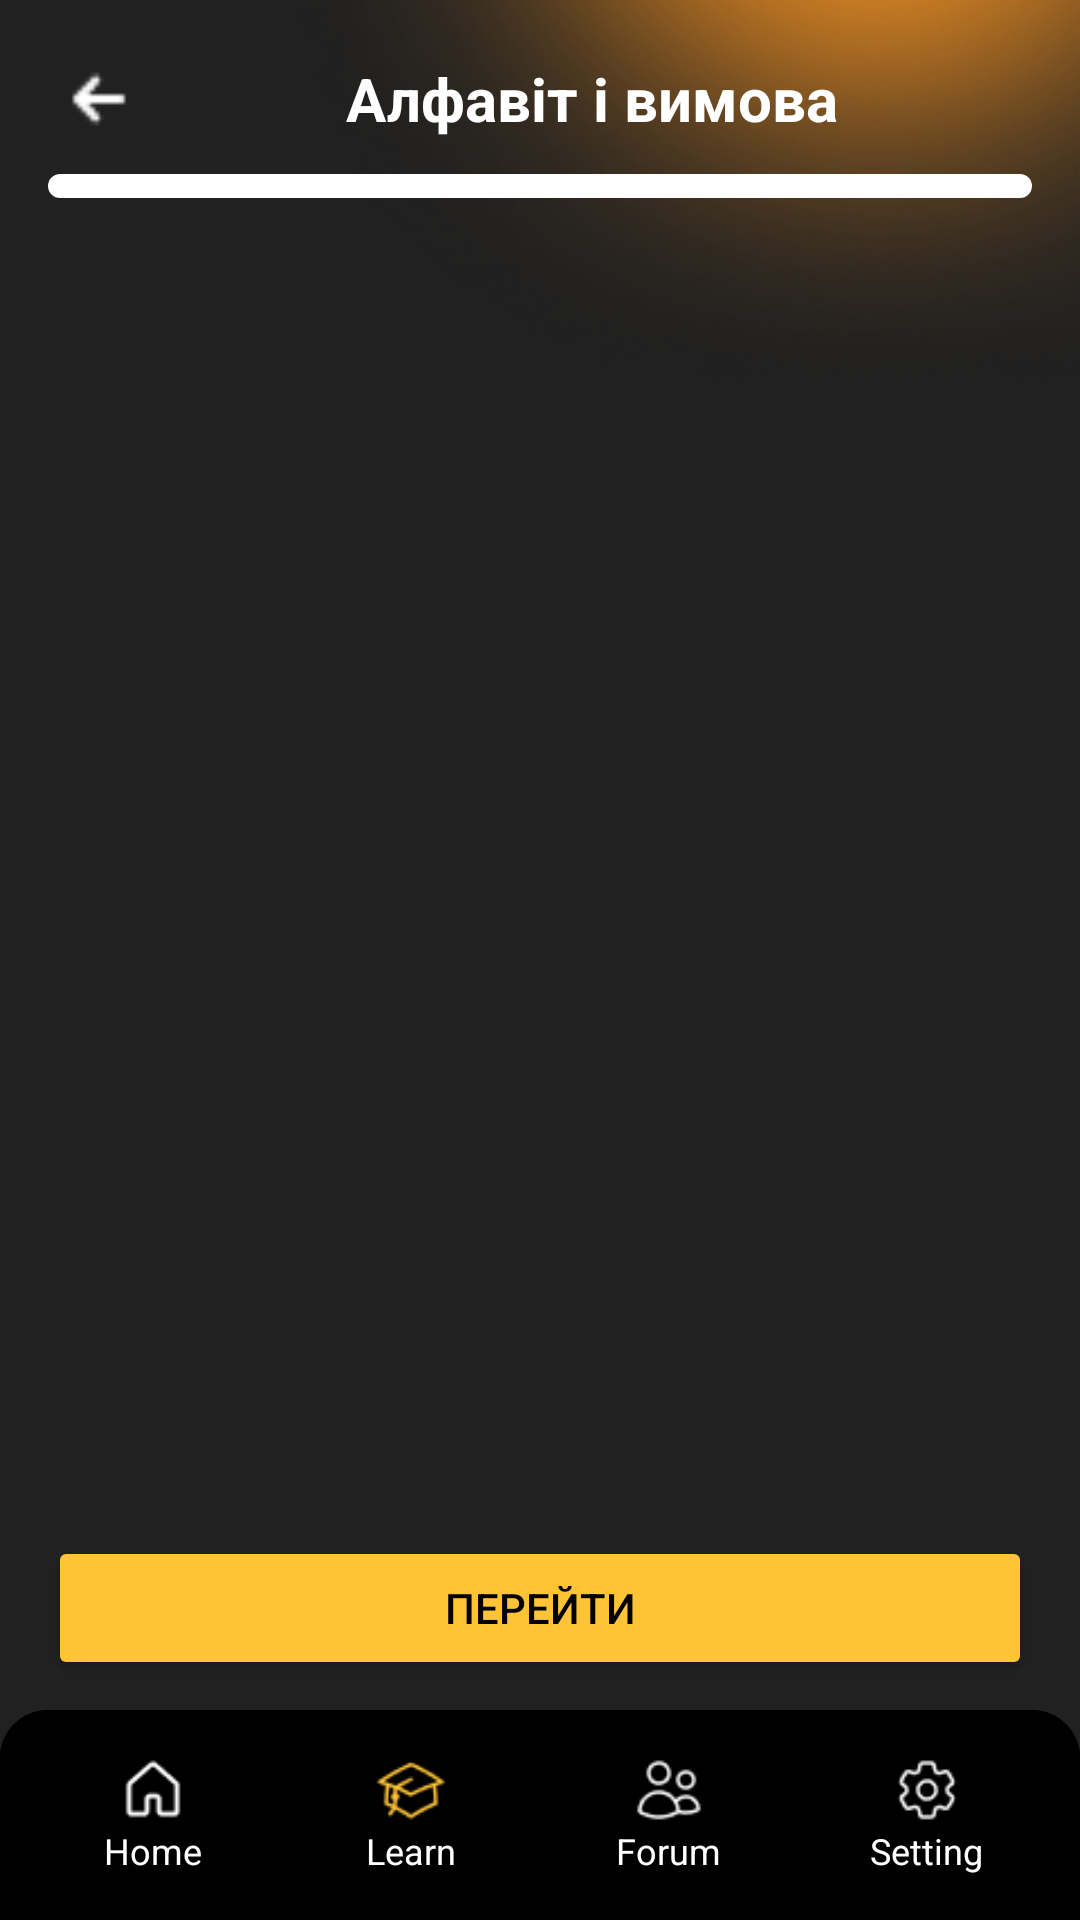

Named icons in this screenshot (1080 x 1920) and their bounding boxes, (left=x1, top=y1, right=x2, bottom=y2):
Back: (left=72, top=73, right=126, bottom=125)
